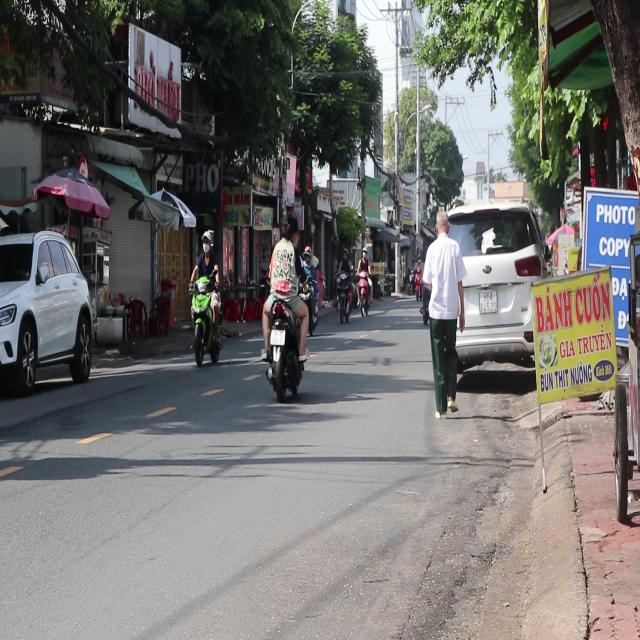licenseplate: (259, 207, 309, 400), (186, 228, 223, 366)
motorcyclist: (282, 211, 298, 243), (200, 230, 213, 254)
nohelmet: (270, 329, 286, 345)
